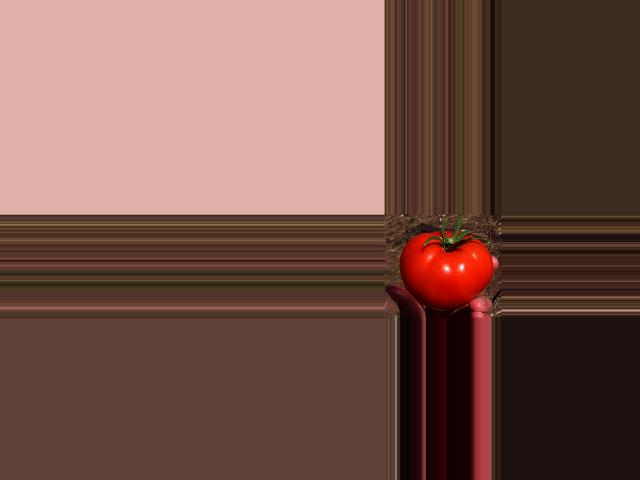tomato: (400, 231, 493, 310)
